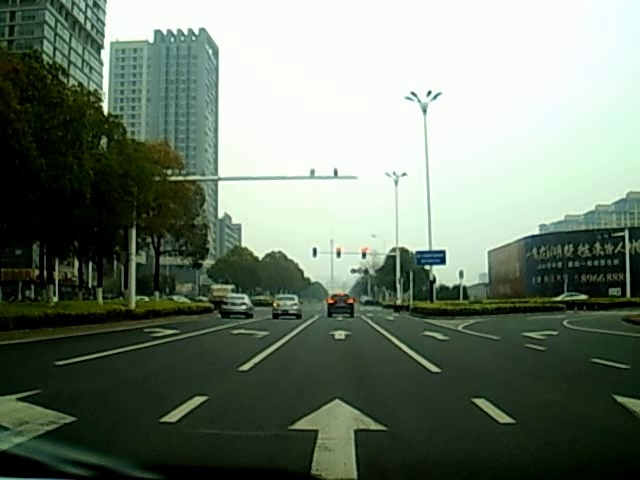Traffic_Light_stop: (359, 245, 368, 261), (335, 248, 343, 260)
